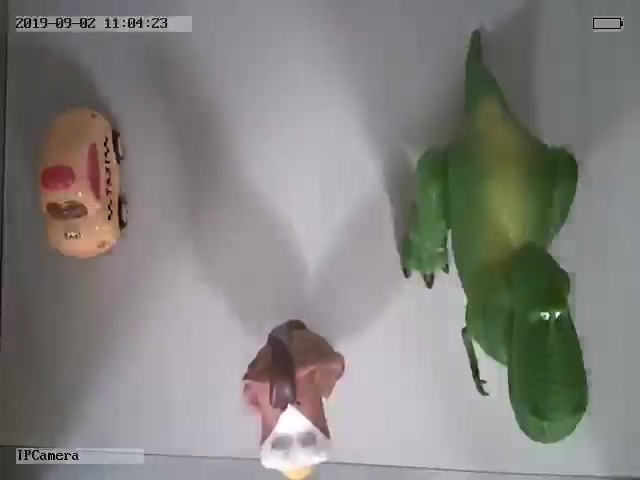car: (40, 106, 131, 259)
horse: (240, 322, 344, 480)
rex: (401, 44, 591, 444)
